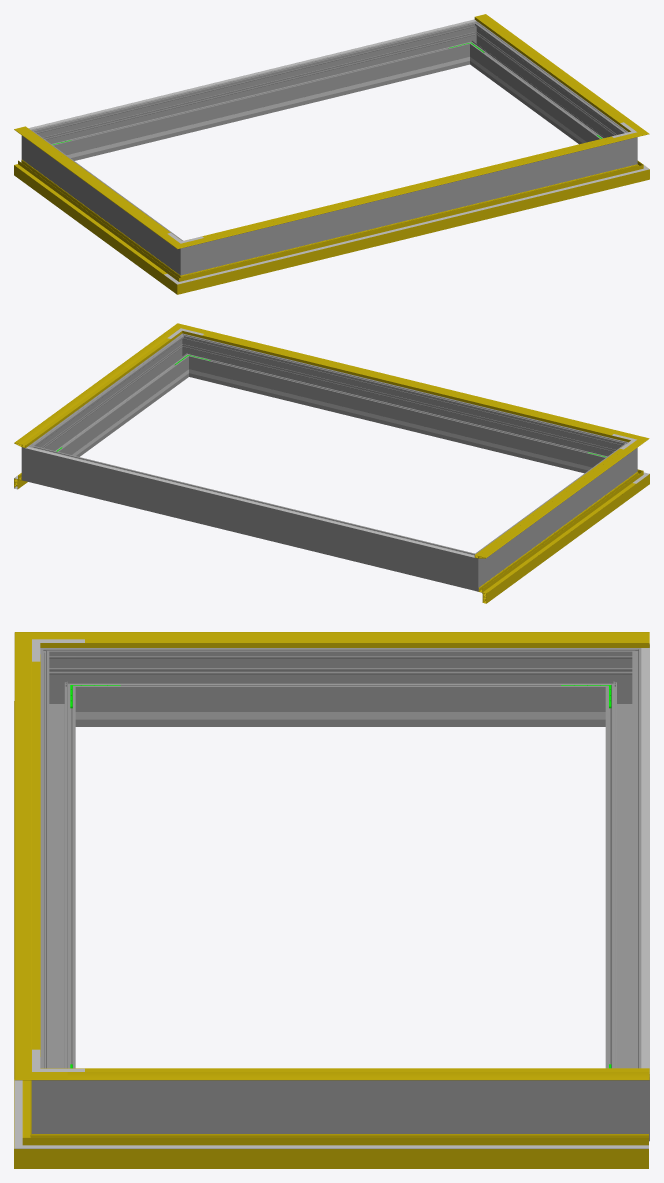
The picture shows the model from 3 angles, top to bottom: view 1: azimuth 30°, elevation 25°; view 2: azimuth 150°, elevation 25°; view 3: azimuth 270°, elevation 25°; orthographic projection. The views are drawn at different scales.
Parts seen in each view (by area): view 1: 3DGeom-276, 3DGeom-298, 3DGeom-90, 3DGeom-297, 3DGeom-268, 3DGeom-85, 3DGeom-141, 3DGeom-244, 3DGeom-145, 3DGeom-147, 3DGeom-220, 3DGeom-100 (+10 smaller); view 2: 3DGeom-298, 3DGeom-276, 3DGeom-297, 3DGeom-141, 3DGeom-268, 3DGeom-85, 3DGeom-145, 3DGeom-239, 3DGeom-147, 3DGeom-220, 3DGeom-278, 3DGeom-158 (+7 smaller); view 3: 3DGeom-268, 3DGeom-297, 3DGeom-97, 3DGeom-276, 3DGeom-298, 3DGeom-141, 3DGeom-147, 3DGeom-145, 3DGeom-220, 3DGeom-158, 3DGeom-232, 3DGeom-290 (+11 smaller).
Boxes of the visible parts, x1,y1,x2,y2 form: 3DGeom-276: [47, 26, 465, 160]; 3DGeom-298: [204, 143, 613, 269]; 3DGeom-90: [196, 168, 626, 288]; 3DGeom-297: [472, 29, 619, 144]; 3DGeom-268: [35, 138, 174, 265]; 3DGeom-85: [14, 159, 171, 284]; 3DGeom-141: [197, 136, 625, 243]; 3DGeom-244: [75, 62, 447, 156]; 3DGeom-145: [474, 14, 635, 128]; 3DGeom-147: [14, 127, 170, 238]; 3DGeom-220: [28, 19, 475, 129]; 3DGeom-100: [199, 173, 625, 278]; 3DGeom-298: [193, 338, 611, 473]; 3DGeom-276: [45, 450, 458, 585]; 3DGeom-297: [39, 342, 186, 456]; 3DGeom-141: [194, 329, 625, 439]; 3DGeom-268: [484, 450, 623, 577]; 3DGeom-85: [478, 478, 636, 603]; 3DGeom-145: [14, 333, 175, 447]; 3DGeom-239: [212, 375, 583, 469]; 3DGeom-147: [474, 446, 635, 558]; 3DGeom-220: [25, 446, 474, 557]; 3DGeom-278: [454, 547, 491, 591]; 3DGeom-158: [202, 334, 613, 435]; 3DGeom-268: [84, 648, 596, 726]; 3DGeom-297: [84, 1080, 596, 1133]; 3DGeom-97: [67, 1134, 648, 1168]; 3DGeom-276: [605, 666, 641, 1068]; 3DGeom-298: [40, 666, 75, 1068]; 3DGeom-141: [14, 654, 40, 1056]; 3DGeom-147: [67, 632, 649, 647]; 3DGeom-145: [67, 1068, 649, 1080]; 3DGeom-220: [641, 648, 649, 1073]; 3DGeom-158: [32, 661, 40, 1049]; 3DGeom-232: [127, 712, 554, 719]; 3DGeom-290: [31, 1055, 84, 1133].
Size of the model in its own units: 3.05 by 0.2829 by 1.83.
